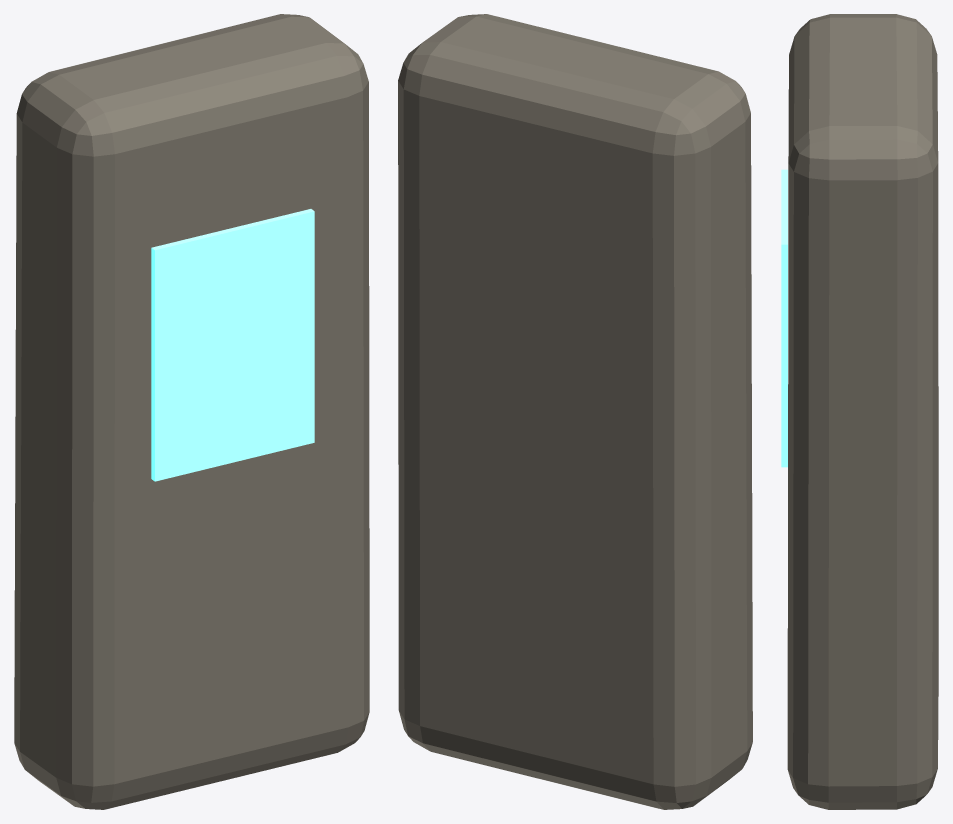
Rendered from prop_learn_rune.glb.
3 views of the same model, side by side, from view 1: azimuth 30°, elevation 25°; view 2: azimuth 150°, elevation 25°; view 3: azimuth 270°, elevation 25° (orthographic). The views are drawn at different scales.
Parts seen in each view (by area): view 1: stone, rune; view 2: stone; view 3: stone, rune.
Part boxes in pixels (x1,y1,x2,y2): stone: (14, 14, 369, 809); rune: (151, 209, 314, 481); stone: (398, 14, 752, 809); stone: (787, 14, 938, 809); rune: (781, 169, 787, 467).
Bounding box in the file's own units: 0.5012 × 1.1 × 0.231.
